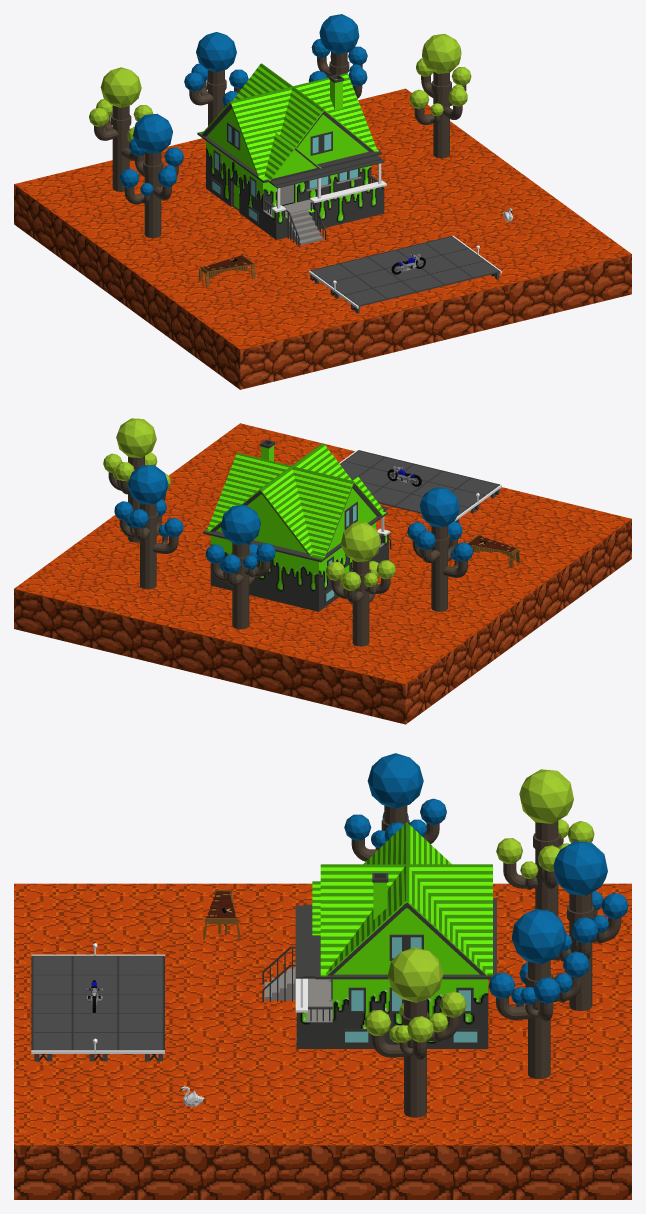
3 renders of one model, top to bottom at view 1: azimuth 30°, elevation 25°; view 2: azimuth 150°, elevation 25°; view 3: azimuth 270°, elevation 25°, orthographic. The views are drawn at different scales.
Parts seen in each view (by area): view 1: Cube.001, Cube.754, OBJRANDOM_MARIMBA; view 2: Cube.001, Cube.754, OBJRANDOM_MARIMBA; view 3: Cube.001, Cube.754, OBJRANDOM_MARIMBA.
Part boxes in pixels (x1,y1,x2,y2): Cube.001: (14,14,631,389); Cube.754: (197,63,386,246); OBJRANDOM_MARIMBA: (198,254,255,286); Cube.001: (14,418,631,724); Cube.754: (203,439,391,611); OBJRANDOM_MARIMBA: (467,534,520,568); Cube.001: (14,753,631,1199); Cube.754: (262,823,496,1048); OBJRANDOM_MARIMBA: (203,890,240,940).
Bounding box in the file's own units: 4000 × 1765 × 4000.
31 materials, 5 textured.
